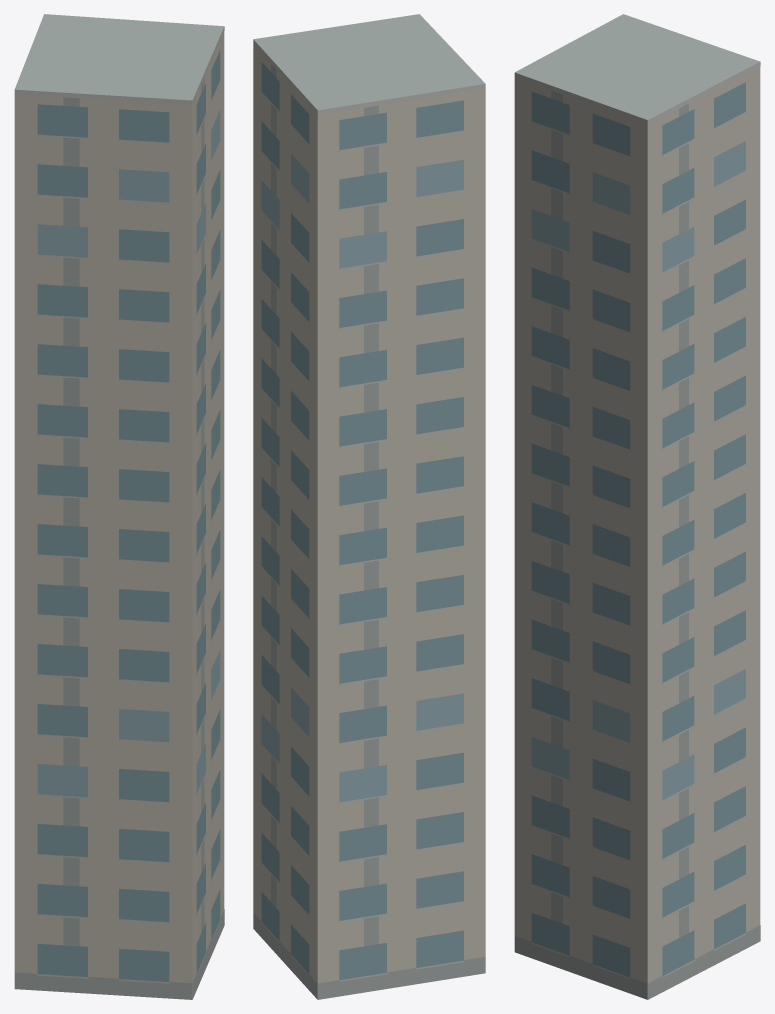
The model's file is survey-upis-32838200.glb.
The picture shows the model from 3 angles, left to right: view 1: azimuth 30°, elevation 25°; view 2: azimuth 150°, elevation 25°; view 3: azimuth 270°, elevation 25°; orthographic projection. The views are drawn at different scales.
Visible parts, largest first — view 1: survey-upis-32838200.tmp; view 2: survey-upis-32838200.tmp; view 3: survey-upis-32838200.tmp.
Part boxes in pixels (x1=…): survey-upis-32838200.tmp: x1=14, y1=14, x2=224, y2=999; survey-upis-32838200.tmp: x1=253, y1=14, x2=485, y2=999; survey-upis-32838200.tmp: x1=514, y1=14, x2=760, y2=999.
Bounding box in the file's own units: 11.84 × 45.75 × 11.59.
